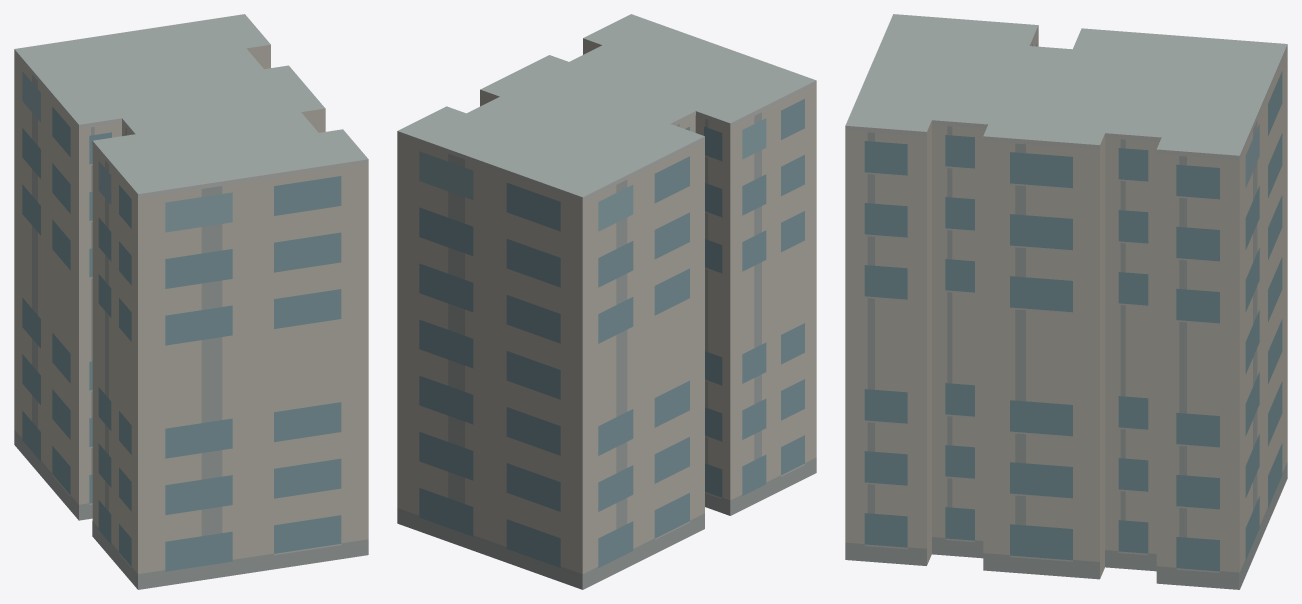
File: survey-upis-32766392.glb
The picture shows the model from 3 angles, left to right: view 1: azimuth 30°, elevation 25°; view 2: azimuth 150°, elevation 25°; view 3: azimuth 270°, elevation 25°; orthographic projection. The views are drawn at different scales.
Visible parts, largest first — view 1: survey-upis-32766392.tmp; view 2: survey-upis-32766392.tmp; view 3: survey-upis-32766392.tmp.
Boxes of the visible parts, x1,y1,x2,y2 form: survey-upis-32766392.tmp: (14, 14, 368, 589); survey-upis-32766392.tmp: (397, 14, 816, 589); survey-upis-32766392.tmp: (845, 14, 1287, 589).
Bounding box in the file's own units: 15.27 × 21.8 × 20.14.
